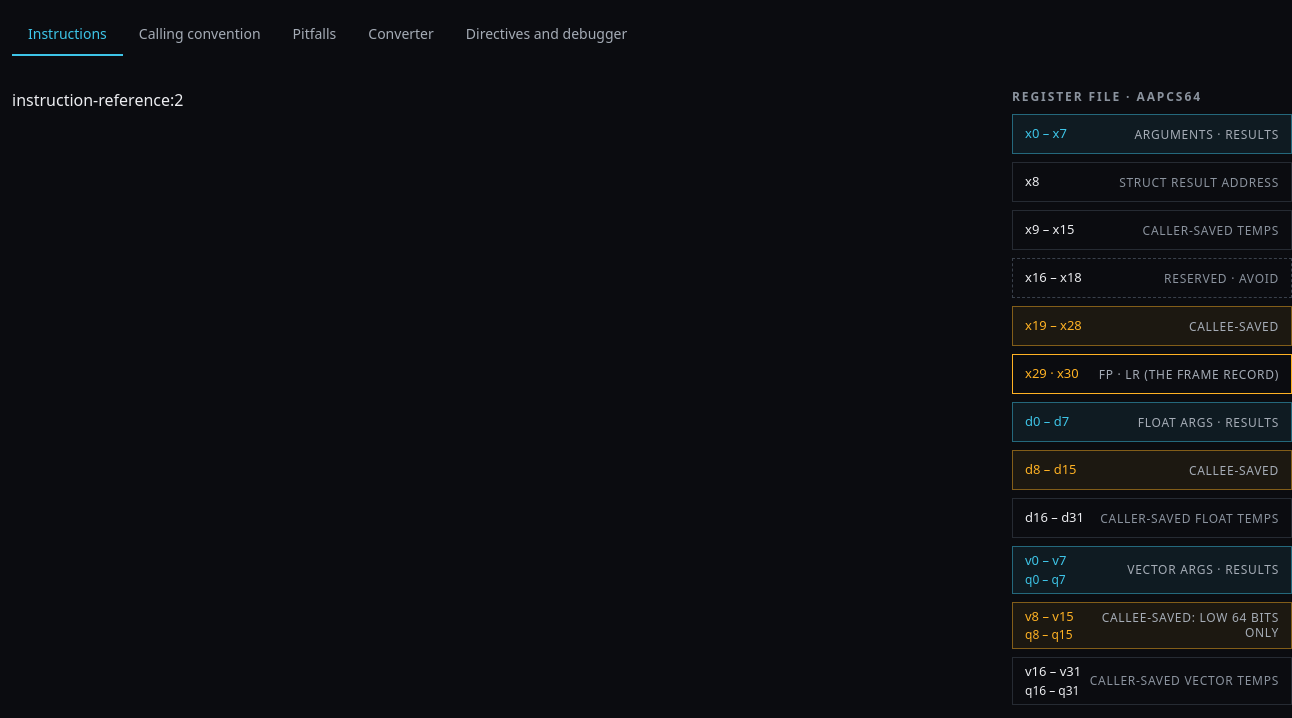
Scenario: ReferenceView › swaps the panel section when another tab is clicked
Click the tab "Calling convention": click(200, 34) [123,12,276,56]
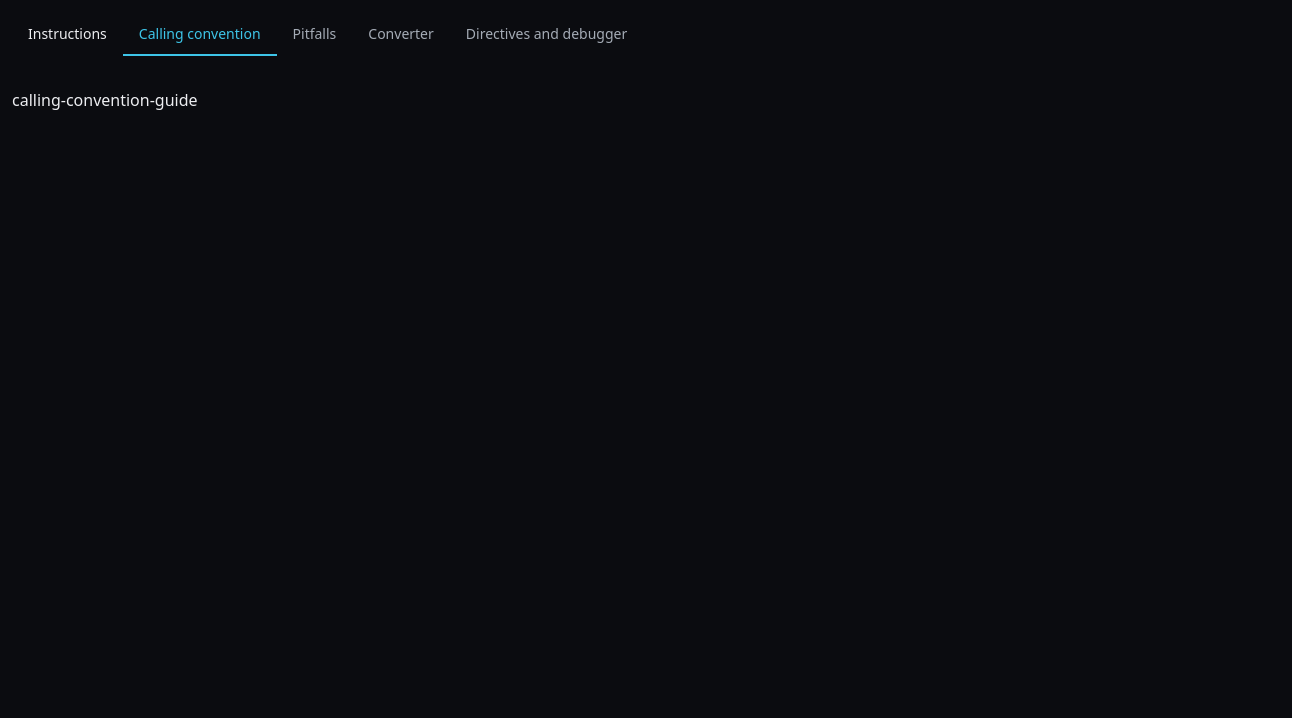
Check: the text "calling-convention-guide" is shown, box [12,89,198,111]
Click the tab "Pitfalls": click(314, 34) [276,12,352,56]
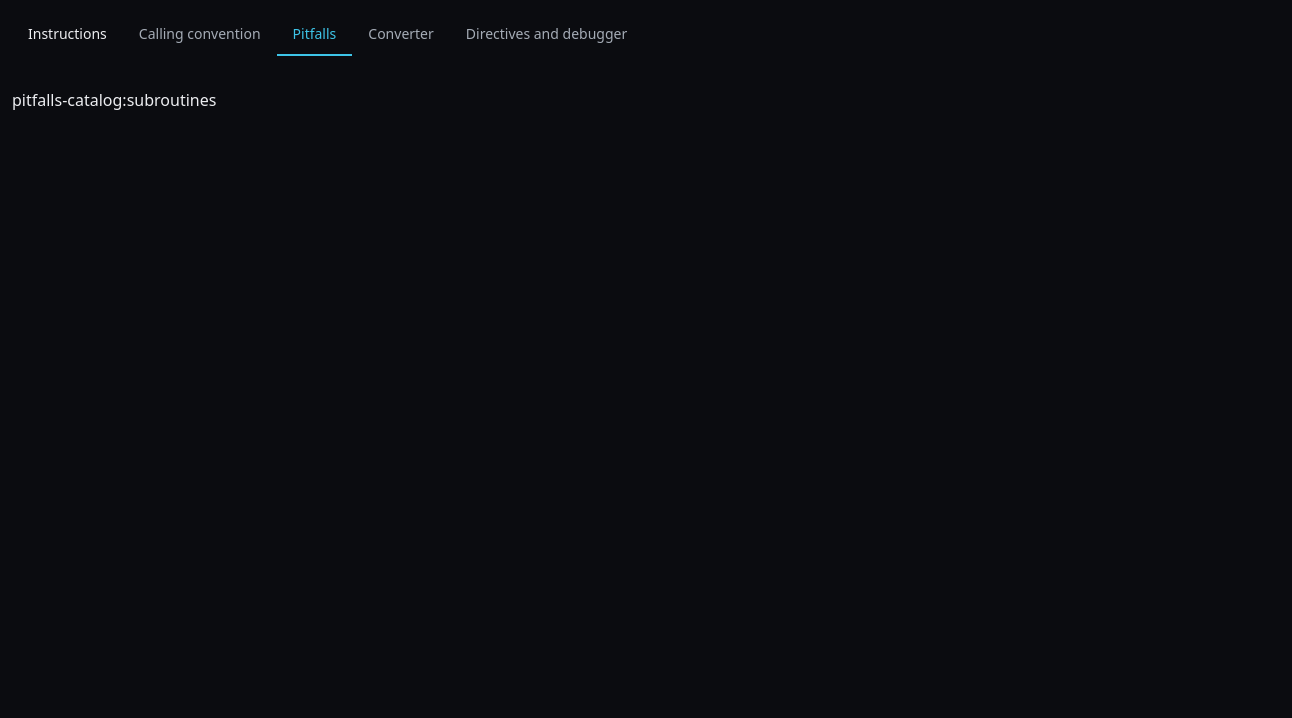
Check: the text "pitfalls-catalog:subroutines" is shown, box [12,89,216,111]
Check: the text "calling-convention-guide" is gone
